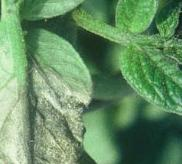Tomato leaf late blight: (0, 0, 178, 164)
